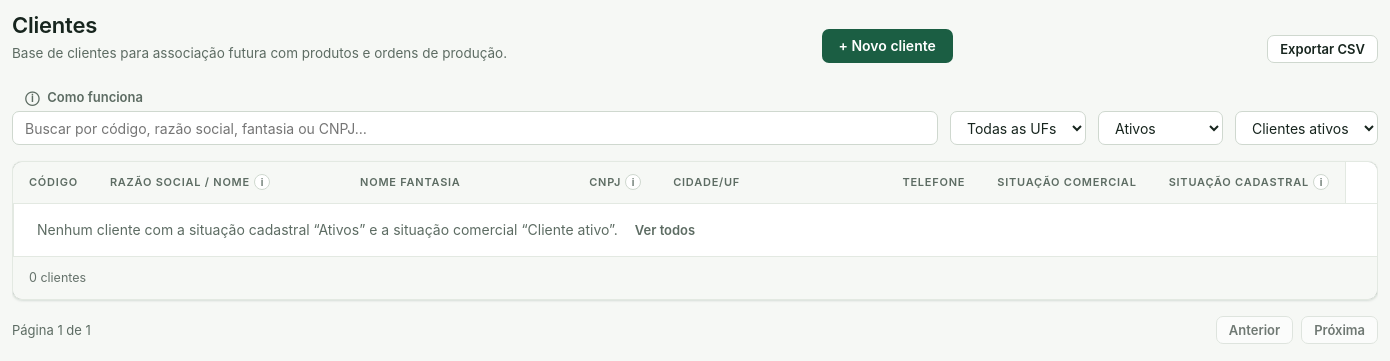
Test: CUSTOMER-COMMERCIAL-STATUS-01 — lista de Clientes › lista vazia no padrão diz as situações filtradas e oferece ver todos
Expected: the text "Nenhum cliente com a situação" is shown, [37,216,708,244]
Click the button "Ver todos".
click(665, 230)  # box [622,216,708,244]
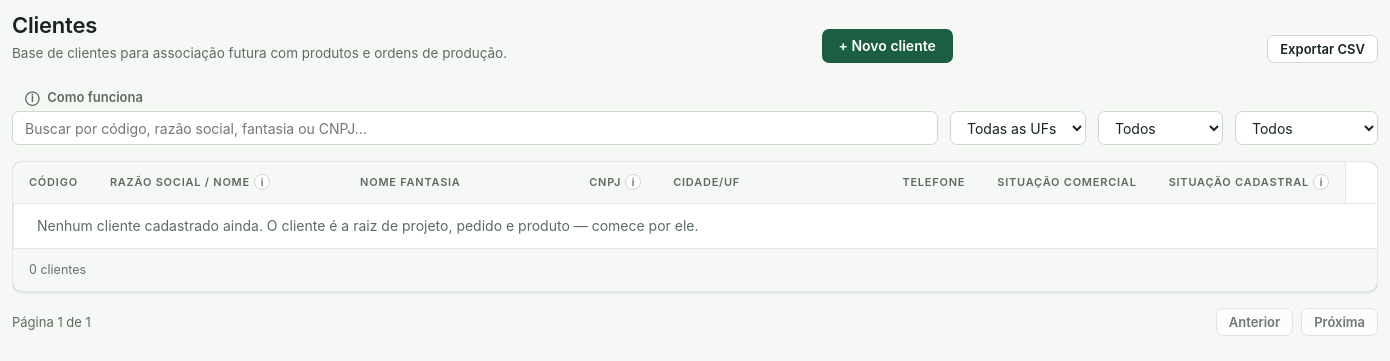
Expected: the 3rd dropdown named "Filtrar por situação comercial" shows "Todos", [1235,111,1378,145]
